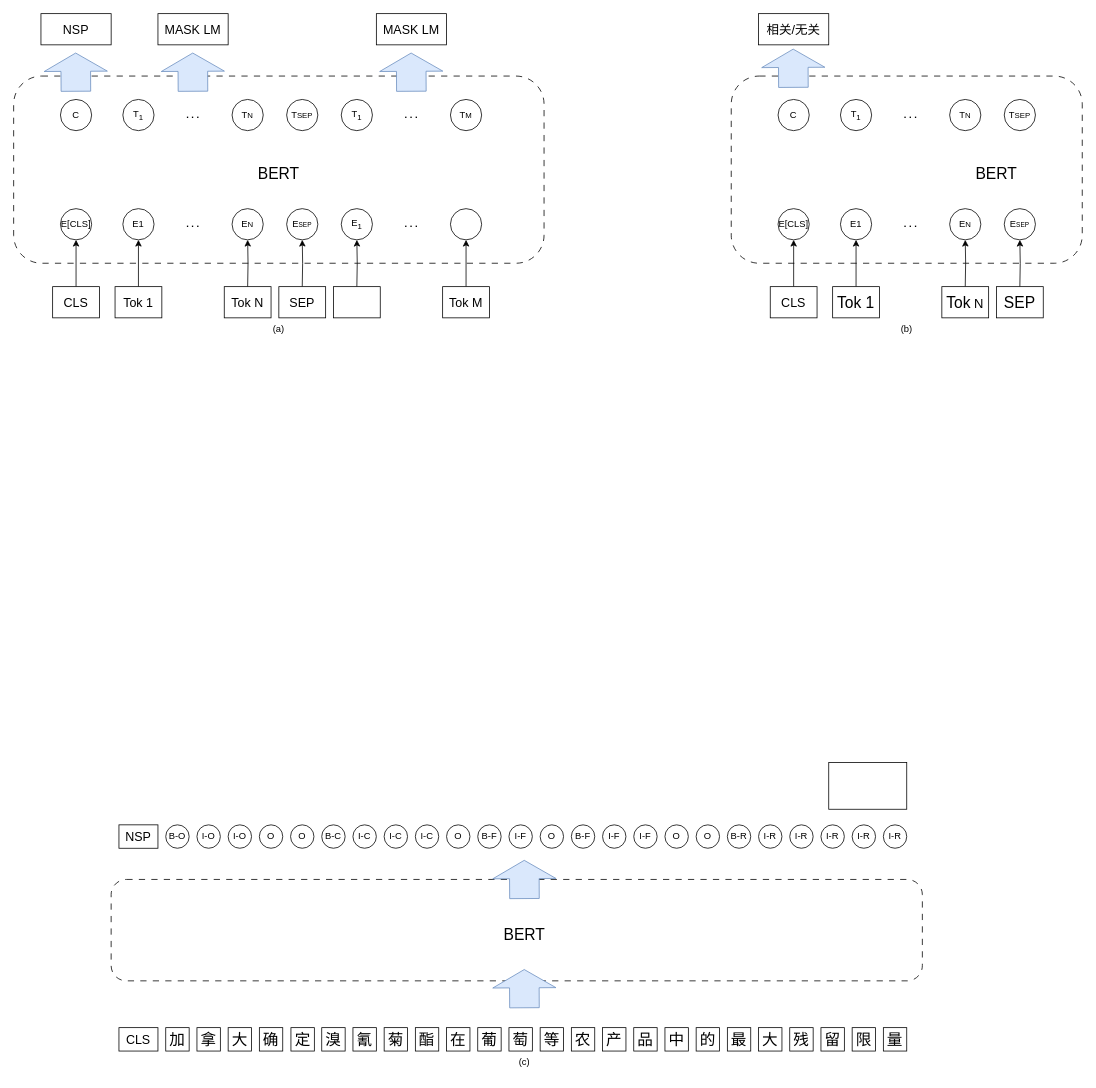
Image size: 1096x1088. Some labels were removed from this diagram. The shapes that lost their labels are listed below. From the top down, each one's box as (x1, y1, x2, y2) in pixels, then its label:
(450, 208, 482, 240): E M
(333, 286, 380, 318): Tok1
(828, 762, 907, 809): O : organization F : food C : contaminant R : regulation
